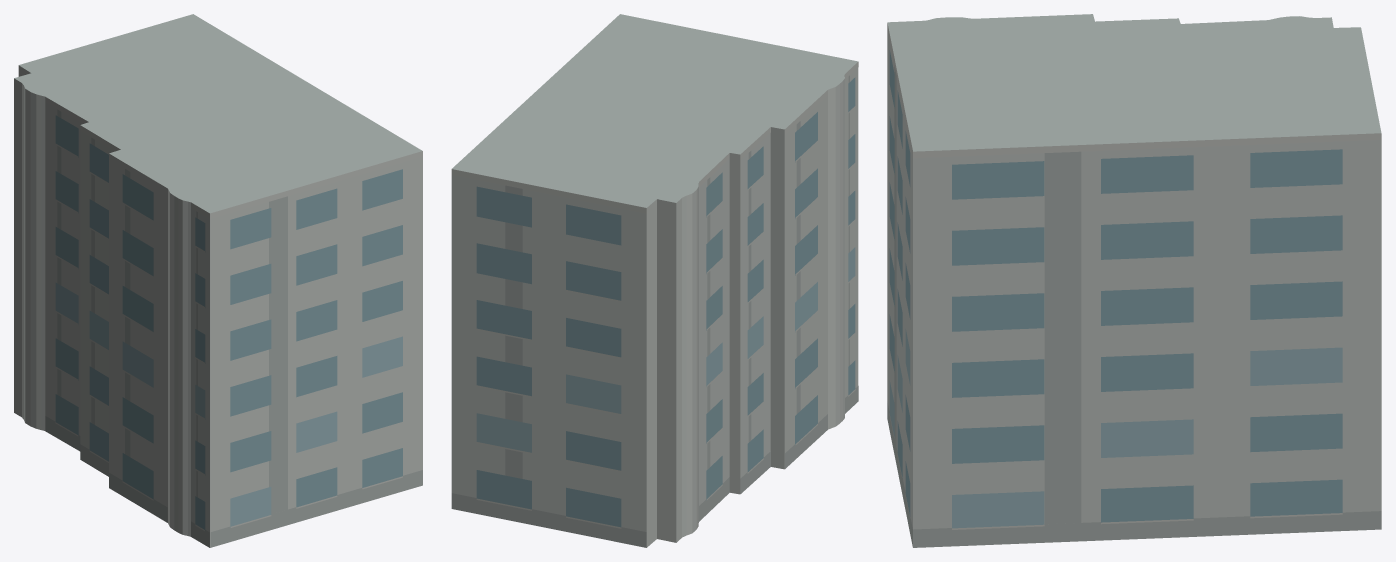
Rendered from survey-upis-32842986.glb.
3 renders of one model, left to right at view 1: azimuth 30°, elevation 25°; view 2: azimuth 150°, elevation 25°; view 3: azimuth 270°, elevation 25°, orthographic. The views are drawn at different scales.
Parts seen in each view (by area): view 1: survey-upis-32842986.tmp; view 2: survey-upis-32842986.tmp; view 3: survey-upis-32842986.tmp.
Part boxes in pixels (box(x1,y1,x2,y2)): survey-upis-32842986.tmp: box(14, 14, 422, 547); survey-upis-32842986.tmp: box(451, 14, 858, 547); survey-upis-32842986.tmp: box(887, 14, 1381, 547).
Size of the model in its own units: 10.69 by 14.35 by 16.22.
